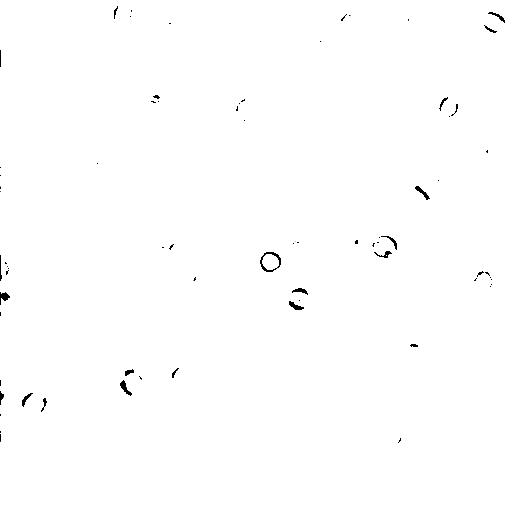micro-algae: (115, 1, 183, 61), (93, 371, 139, 418), (306, 251, 349, 289), (413, 161, 451, 201), (468, 139, 505, 176), (266, 198, 303, 234), (299, 23, 338, 57), (182, 262, 217, 297), (334, 219, 370, 253), (40, 114, 68, 146), (4, 49, 34, 78), (119, 366, 146, 398), (1, 277, 25, 312), (82, 150, 107, 183), (234, 96, 261, 126), (405, 188, 432, 218), (340, 8, 369, 35), (371, 233, 400, 260), (20, 391, 48, 418), (158, 0, 184, 25), (288, 287, 314, 311), (390, 10, 413, 37), (482, 11, 509, 34), (384, 419, 404, 448), (260, 249, 283, 274), (473, 268, 493, 296), (111, 1, 134, 25), (439, 94, 460, 120), (405, 342, 430, 363), (171, 366, 194, 388), (1, 384, 17, 412), (156, 230, 176, 252), (288, 238, 303, 253), (2, 255, 10, 282), (501, 100, 511, 117), (1, 51, 4, 66)
